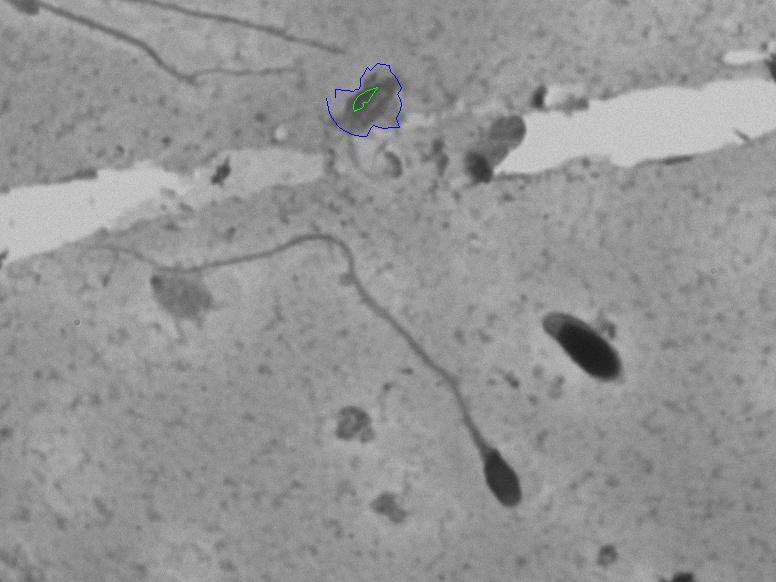Abnormal: (88, 226, 531, 530), (521, 274, 641, 391)
